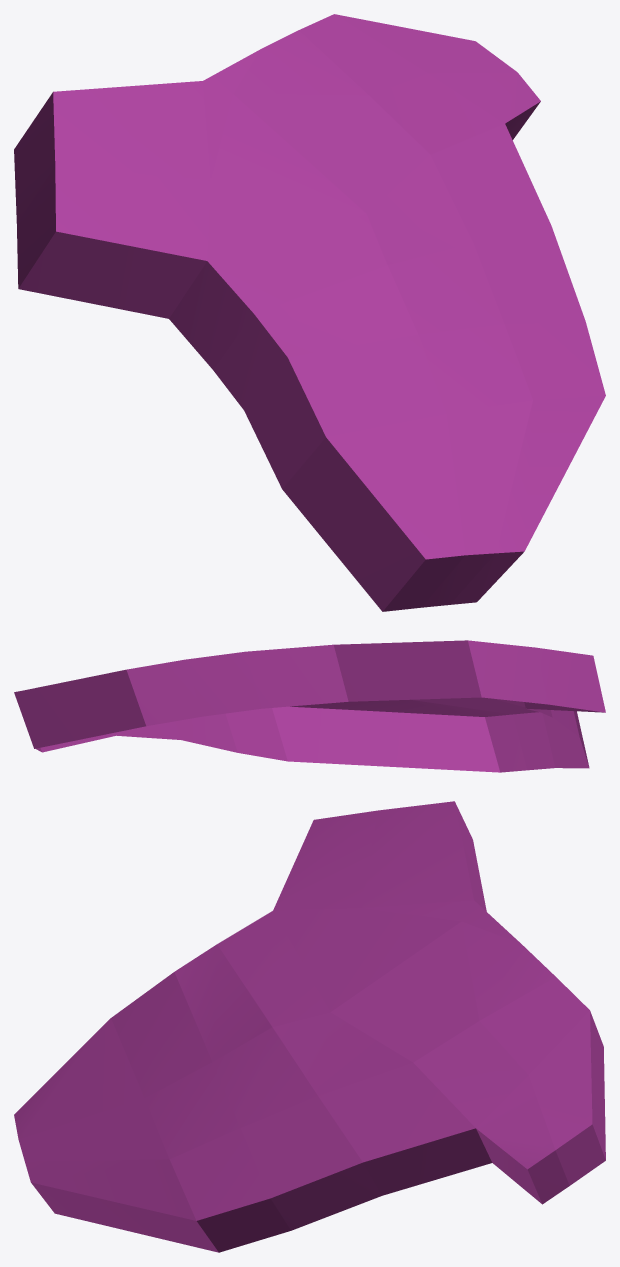
File: Planet_C_Antarctica.fbx
3 views of the same model, one above another, from view 1: azimuth 30°, elevation 25°; view 2: azimuth 150°, elevation 25°; view 3: azimuth 270°, elevation 25° (orthographic). The views are drawn at different scales.
Visible parts, largest first — view 1: Continent1; view 2: Continent1; view 3: Continent1.
Part boxes in pixels (x1=…): Continent1: x1=14, y1=14, x2=605, y2=611; Continent1: x1=14, y1=640, x2=605, y2=772; Continent1: x1=14, y1=801, x2=605, y2=1252.
Size of the model in its own units: 1003 by 582 by 940.
